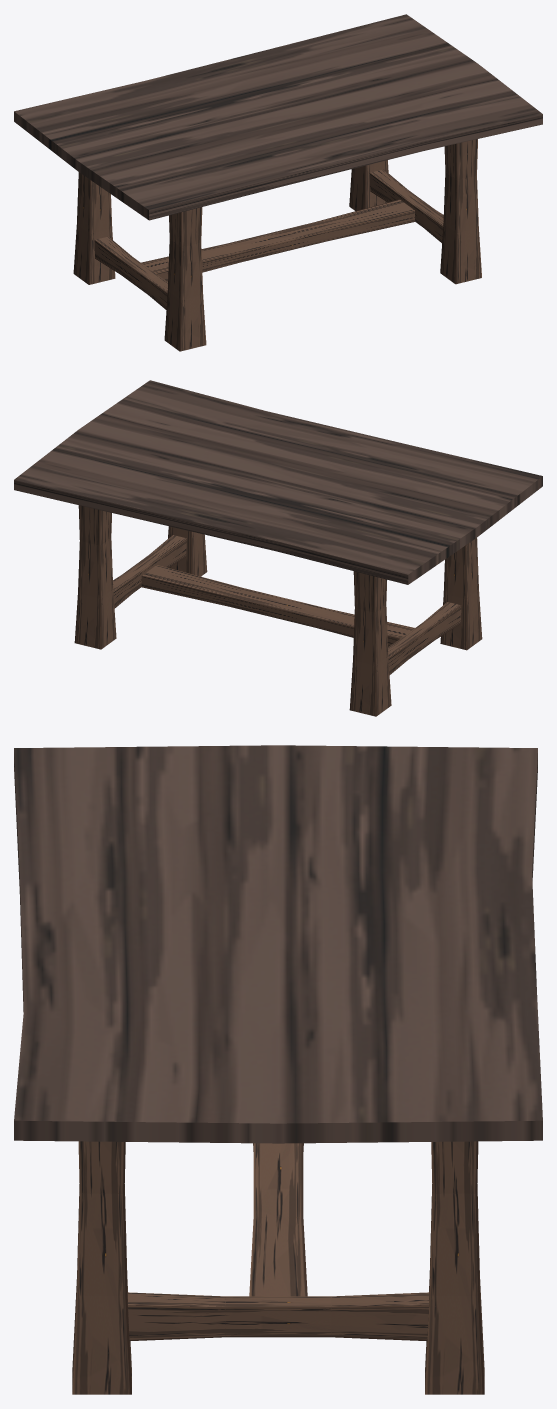
File: furniture_table_01.fbx
The picture shows the model from 3 angles, top to bottom: view 1: azimuth 30°, elevation 25°; view 2: azimuth 150°, elevation 25°; view 3: azimuth 270°, elevation 25°; orthographic projection. The views are drawn at different scales.
Parts seen in each view (by area): view 1: furniture_table_01; view 2: furniture_table_01; view 3: furniture_table_01.
Part boxes in pixels (bbox=[...]): furniture_table_01: bbox=[14, 14, 542, 351]; furniture_table_01: bbox=[14, 380, 542, 716]; furniture_table_01: bbox=[14, 745, 542, 1394].
Size of the model in its own units: 2.03 by 0.794 by 1.2.
Materials: 1 (1 with a texture image).
